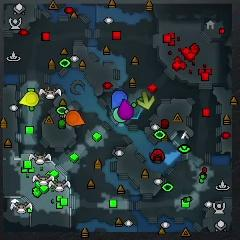p1: (112, 90, 127, 109)
p2: (114, 107, 124, 124)
p3: (118, 99, 132, 120)
p4: (19, 91, 39, 106)
p5: (65, 110, 84, 126)
x2: (137, 91, 155, 109)
